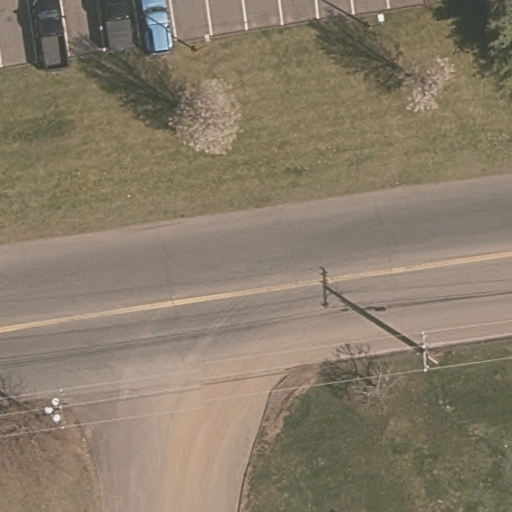DT: (22, 382, 76, 438), (415, 330, 450, 380)
